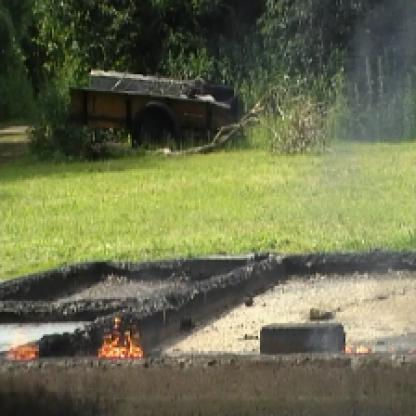Fire: (96, 308, 160, 362), (2, 325, 43, 368)
